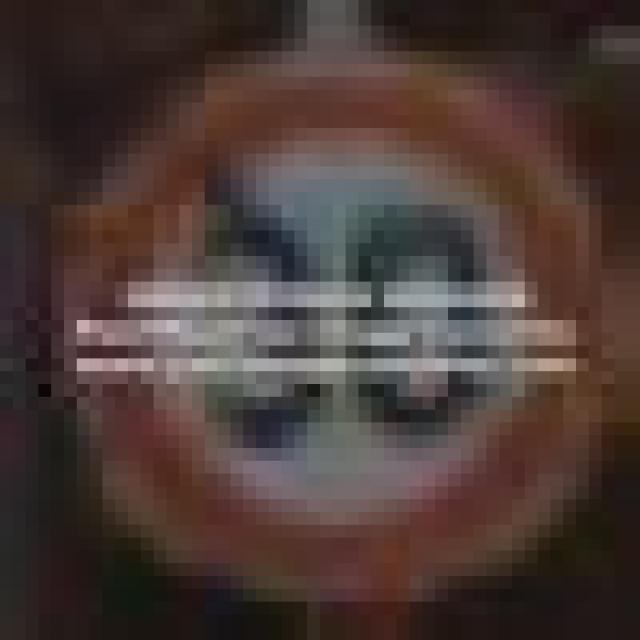SPEED_LIMIT_30: (26, 39, 614, 602)
